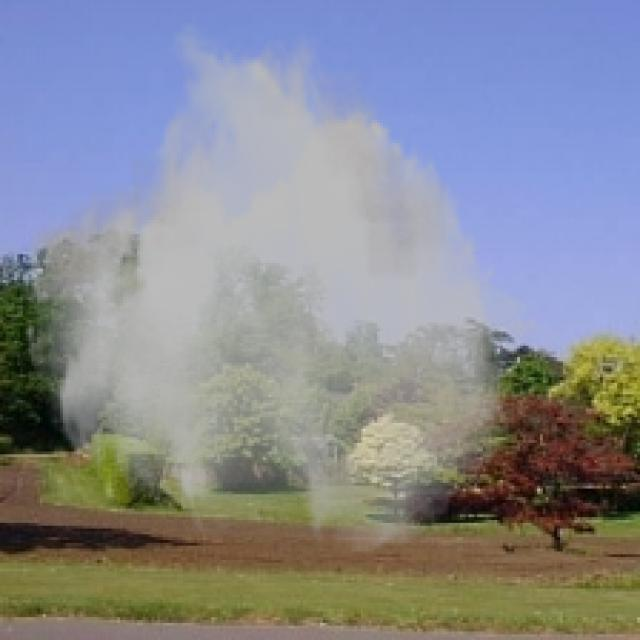Smoke: (20, 20, 540, 557)
